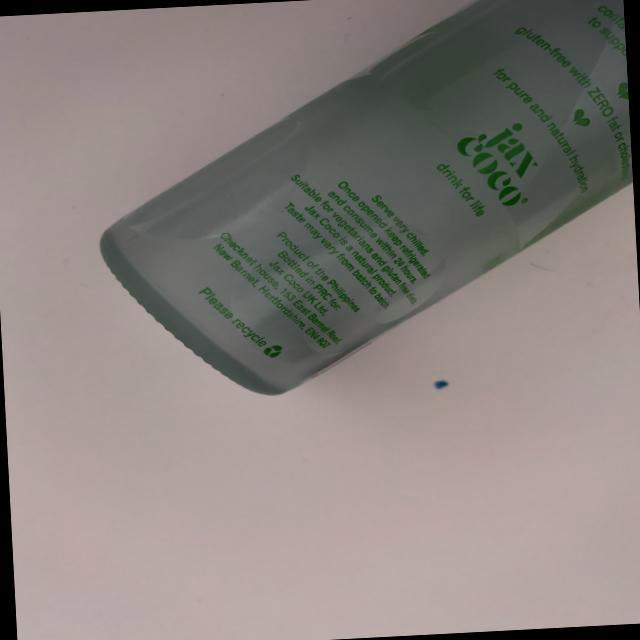glass: (80, 0, 640, 408)
